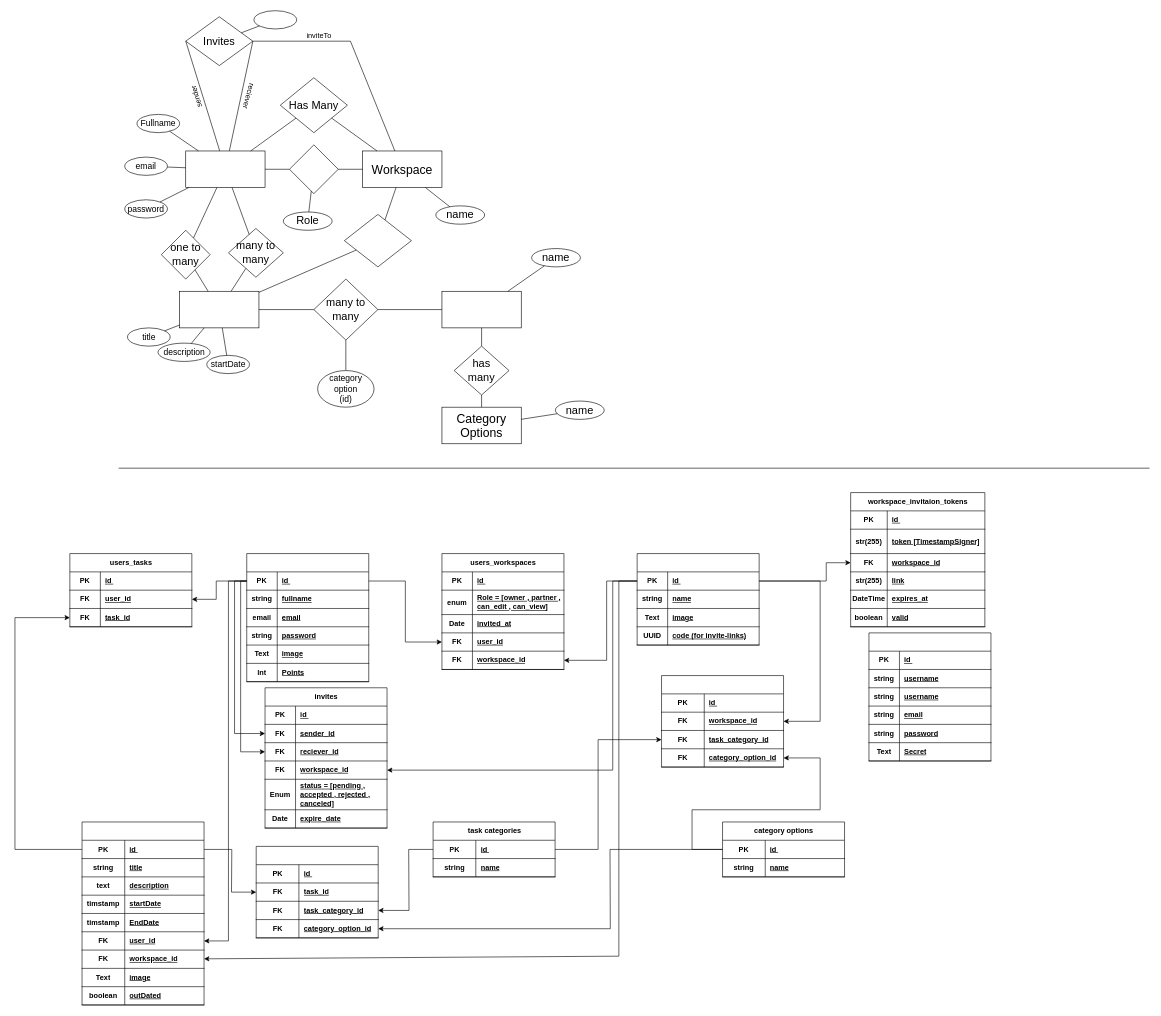
This 1161x1016 diagram has some shape labels left out. The shapes that lost their labels are listed below. From the top down, each one's box as (x1, y1, x2, y2) in pixels, then its label:
(253, 10, 297, 29): status
(185, 150, 265, 188): User
(289, 144, 338, 194): In
(344, 214, 411, 267): belongs to
(179, 291, 259, 328): Task
(441, 291, 521, 328): Task Category
(246, 553, 369, 682): users
(637, 553, 759, 645): workspaces
(868, 632, 991, 761): clients
(661, 675, 784, 767): workspace_category_option
(256, 846, 378, 938): tasks_task_categories
(81, 821, 204, 1005): tasks
